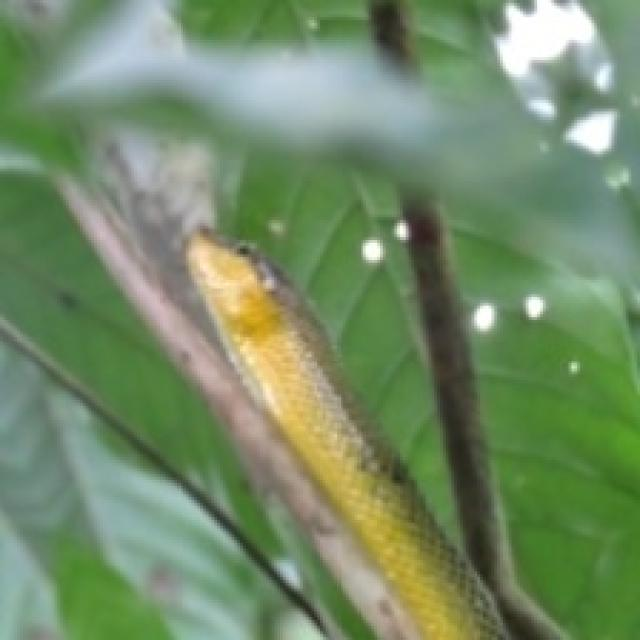red-tailed green ratsnake: (186, 229, 506, 637)
